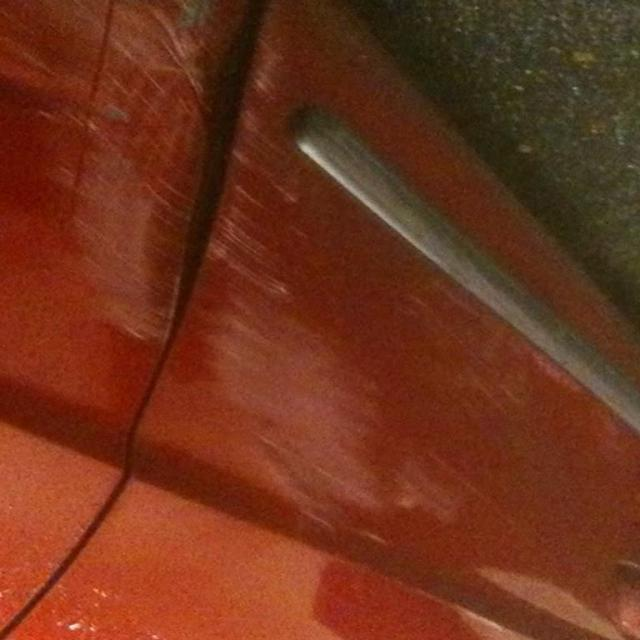scratch: (30, 1, 538, 515)
